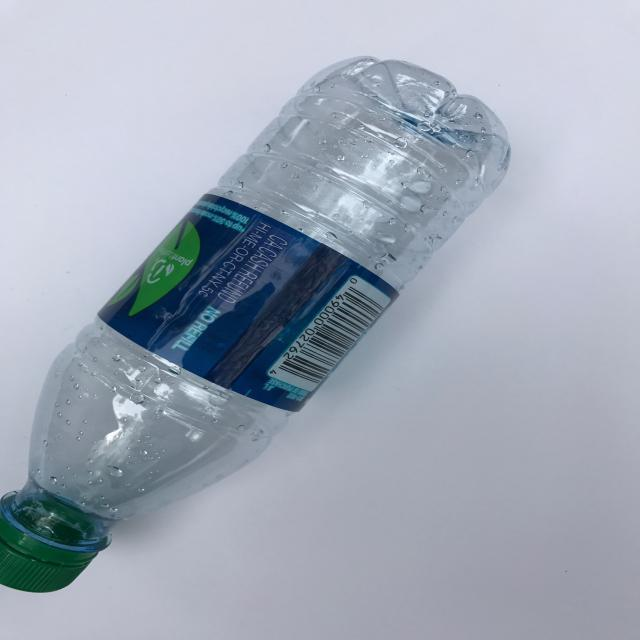plastic: (8, 53, 514, 600)
